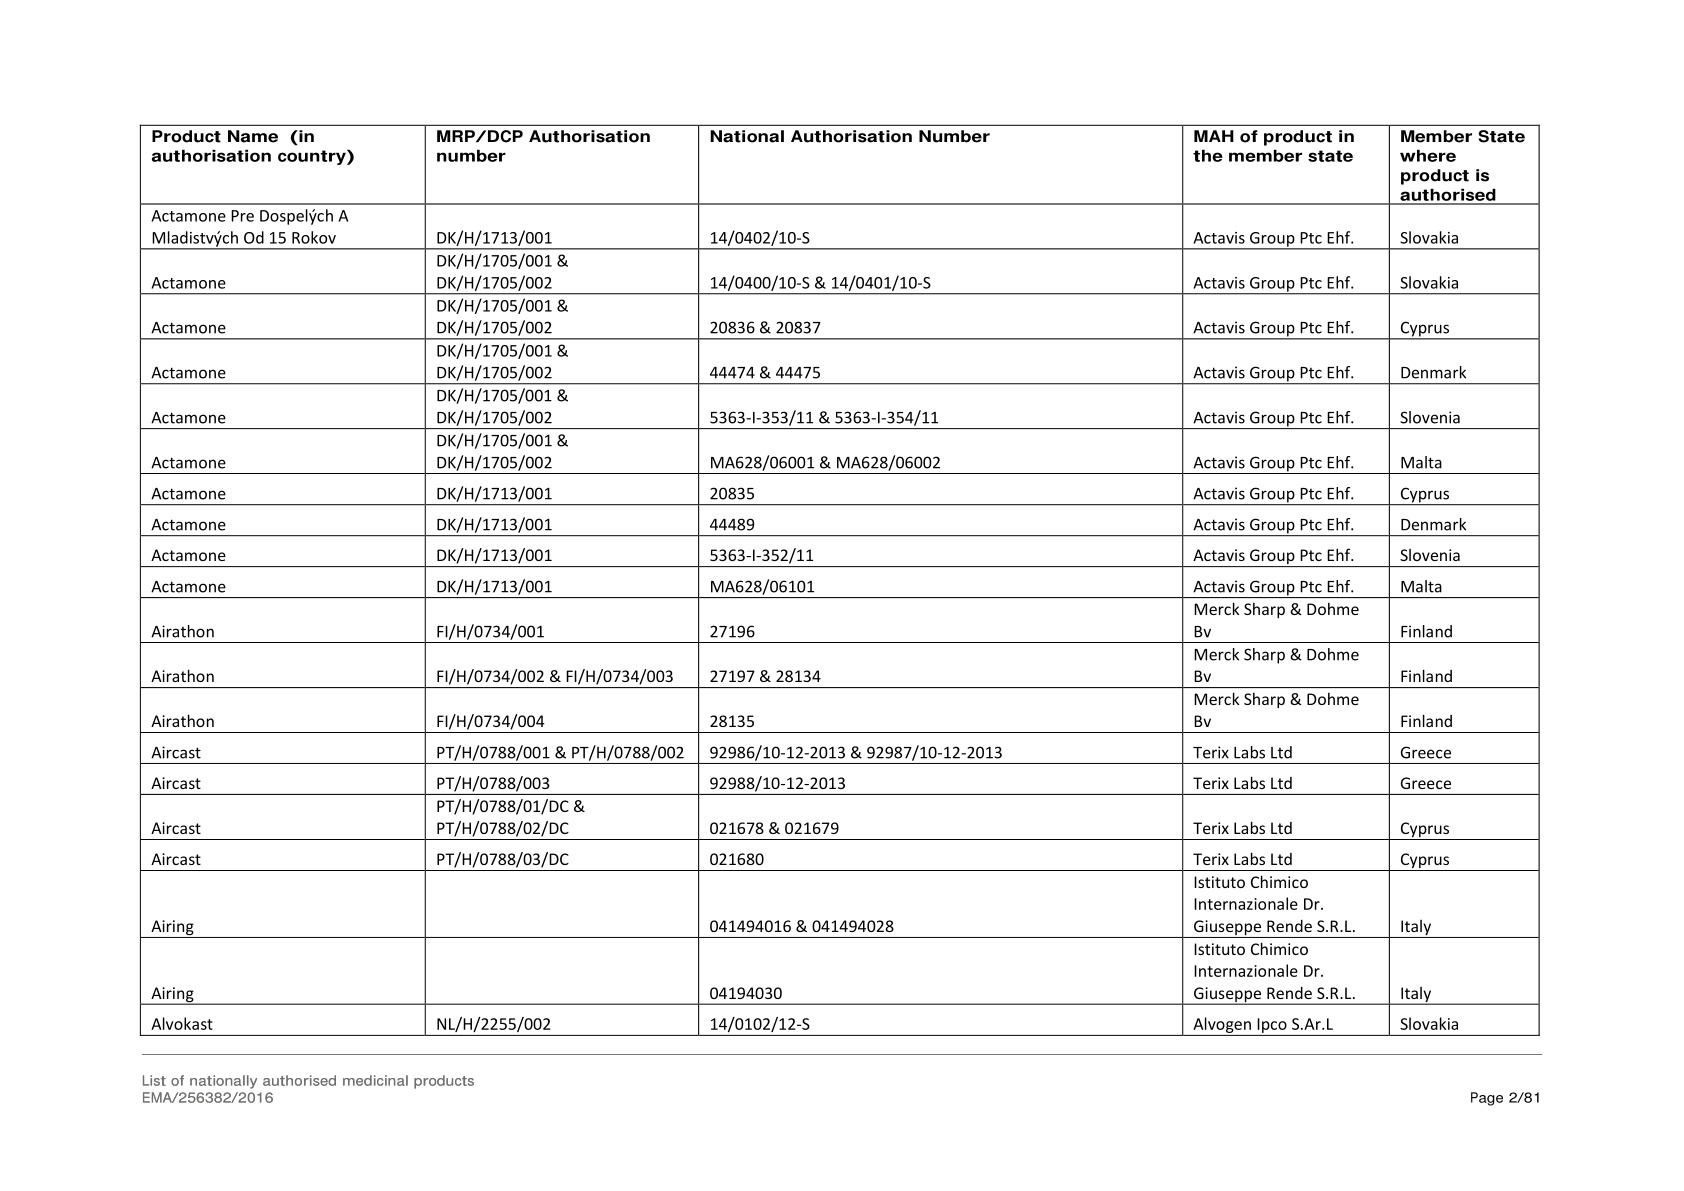full_lined: (138, 124, 1540, 1038)
